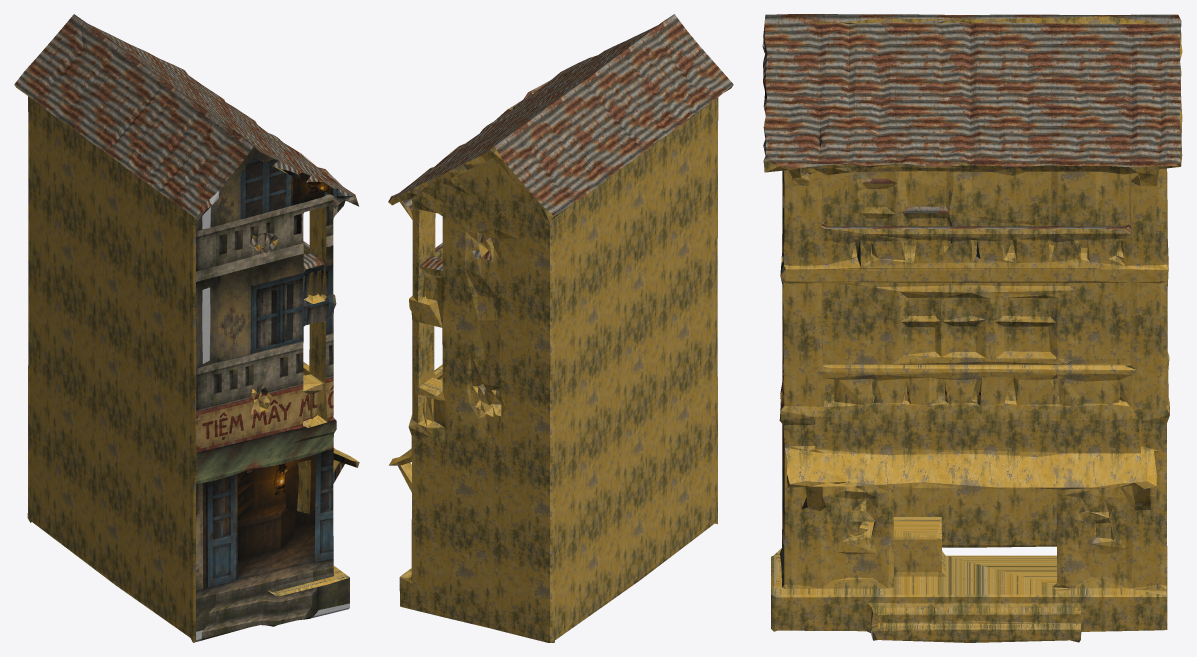
The model's file is tube_house_b_reduced.glb.
The picture shows the model from 3 angles, left to right: view 1: azimuth 30°, elevation 25°; view 2: azimuth 150°, elevation 25°; view 3: azimuth 270°, elevation 25°; orthographic projection. The views are drawn at different scales.
Parts seen in each view (by area): view 1: Wall, Front, Roof; view 2: Wall, Roof; view 3: Wall, Roof, Front.
Boxes of the visible parts, x1=… form: Wall: x1=14, y1=85, x2=358, y2=642; Front: x1=193, y1=146, x2=359, y2=642; Roof: x1=14, y1=14, x2=355, y2=268; Wall: x1=388, y1=85, x2=733, y2=642; Roof: x1=388, y1=14, x2=733, y2=270; Wall: x1=763, y1=16, x2=1182, y2=642; Roof: x1=763, y1=14, x2=1181, y2=262; Front: x1=762, y1=27, x2=981, y2=639.
Bounding box in the file's own units: 0.7619 × 2 × 1.35.
3 materials, 3 textured.
